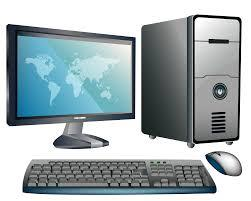keyboard: (22, 156, 216, 196)
monitor: (0, 19, 140, 155)
mouse: (208, 151, 249, 181)
pc: (141, 9, 249, 149)
